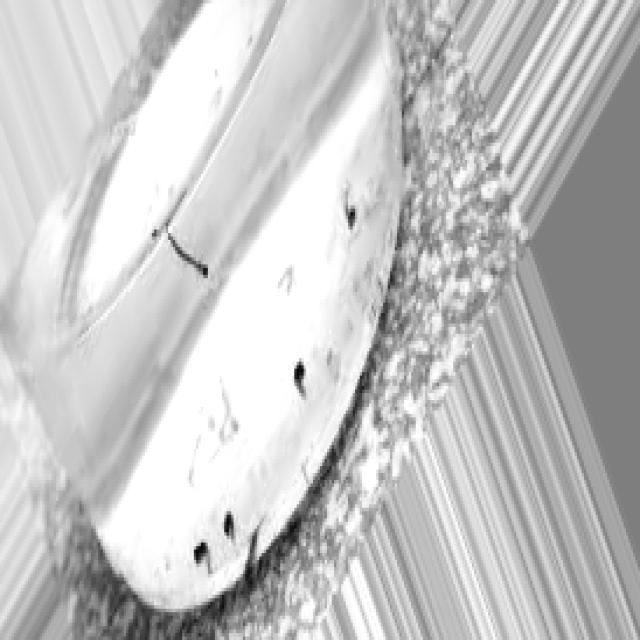larvas: (167, 236, 208, 278), (218, 376, 240, 433), (246, 517, 261, 568), (193, 541, 215, 569), (344, 178, 355, 231), (294, 356, 305, 399), (275, 268, 292, 293), (224, 509, 234, 535)
